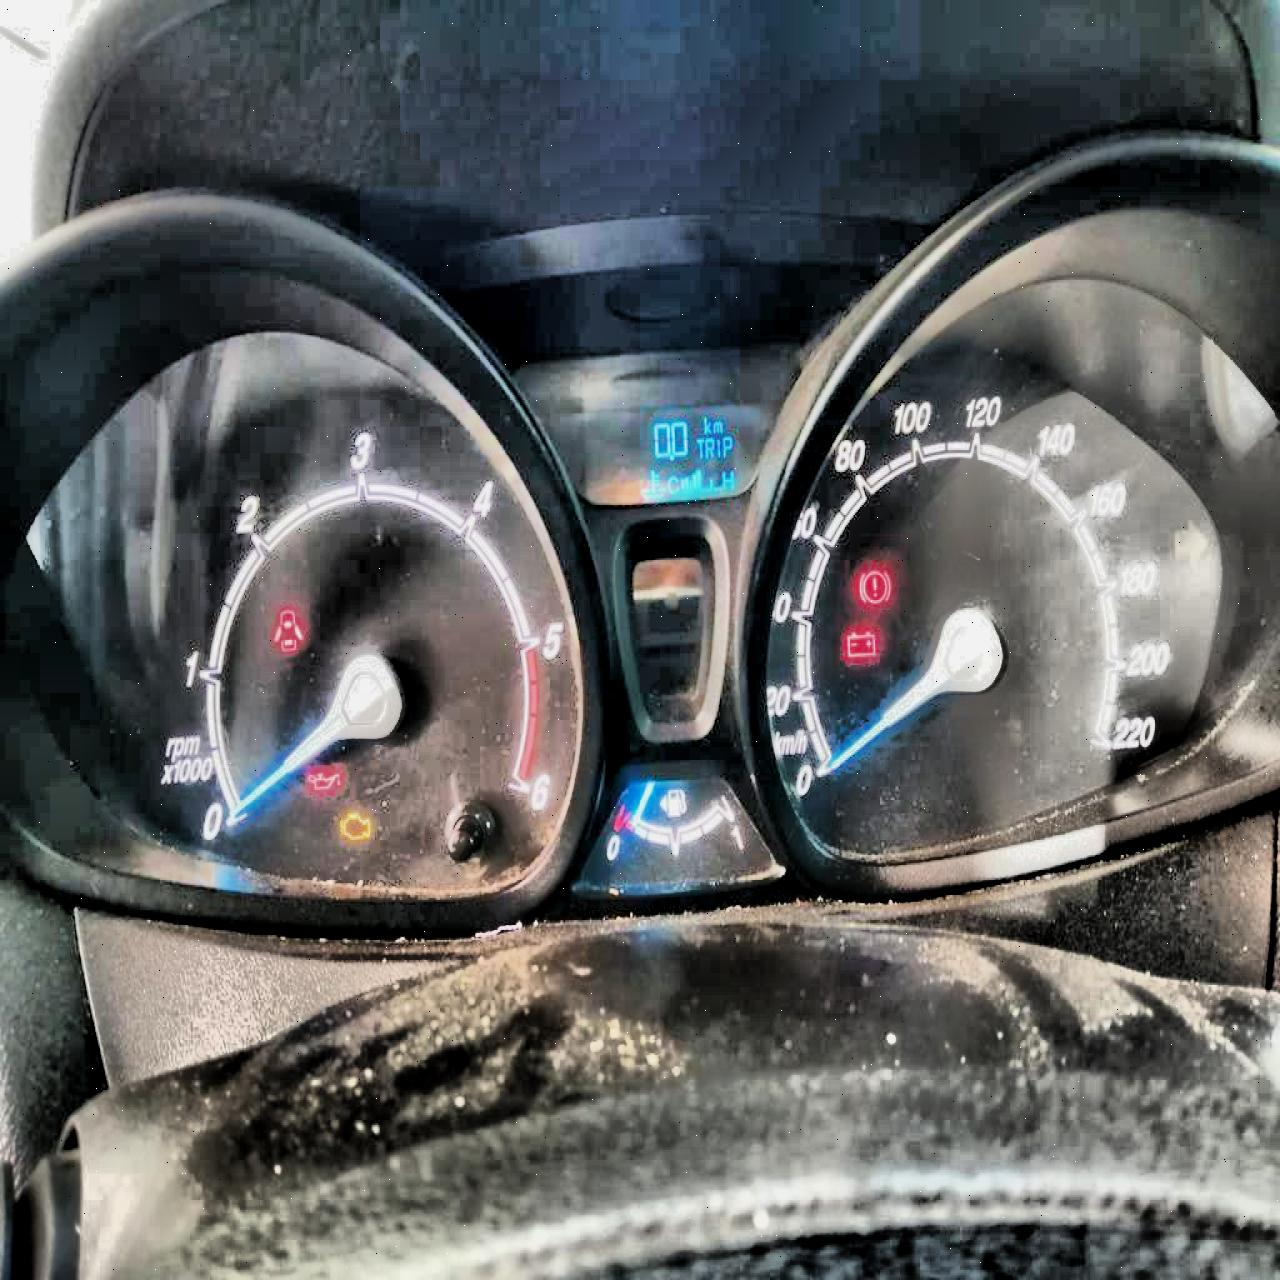-: (667, 451, 674, 462)
0: (652, 421, 669, 457), (670, 418, 688, 455)
X: (721, 468, 734, 490), (665, 474, 679, 493), (722, 434, 733, 458), (701, 414, 712, 435), (694, 437, 704, 458), (704, 437, 714, 458), (713, 418, 722, 434), (715, 437, 721, 458)
odometer: (568, 395, 763, 501)
